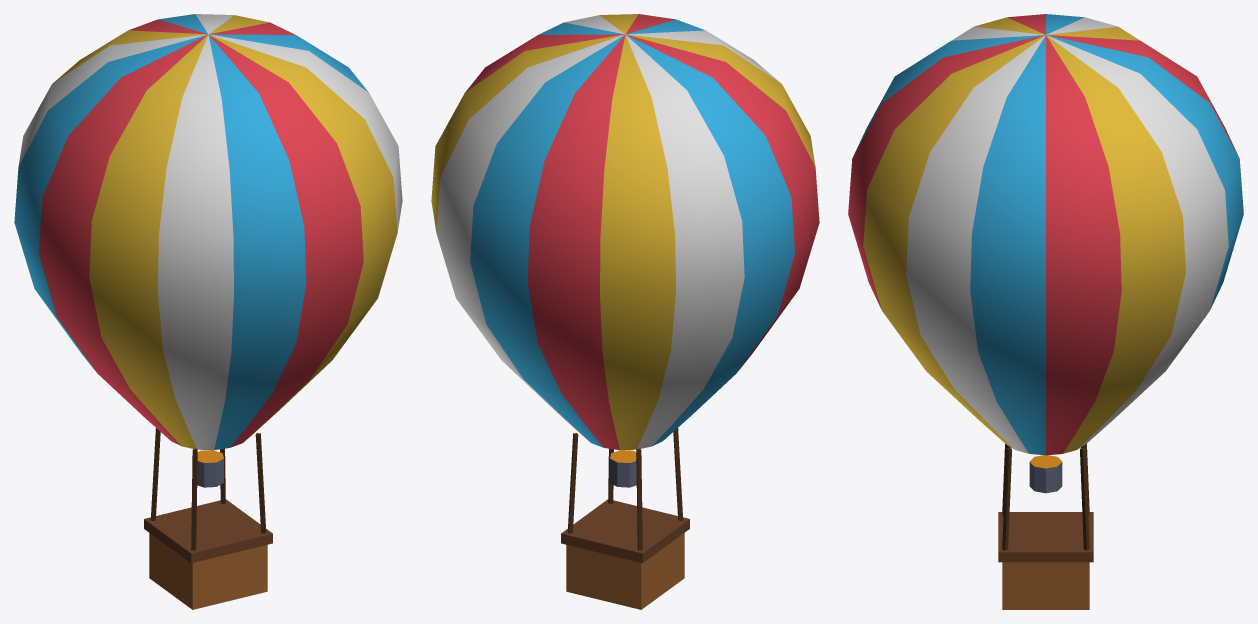
Rendered from balloon.glb.
The picture shows the model from 3 angles, left to right: view 1: azimuth 30°, elevation 25°; view 2: azimuth 150°, elevation 25°; view 3: azimuth 270°, elevation 25°; orthographic projection.
Visible parts, largest first — view 1: Envelope, Basket; view 2: Envelope, Basket; view 3: Envelope, Basket.
Boxes of the visible parts, box(x1,y1,x2,y2) form: Envelope: box(14, 14, 402, 450); Basket: box(144, 428, 272, 609); Envelope: box(431, 14, 819, 450); Basket: box(561, 428, 689, 609); Envelope: box(848, 14, 1243, 455); Basket: box(998, 444, 1093, 609).
Size of the model in its own units: 2.9 by 4.5 by 2.9.
